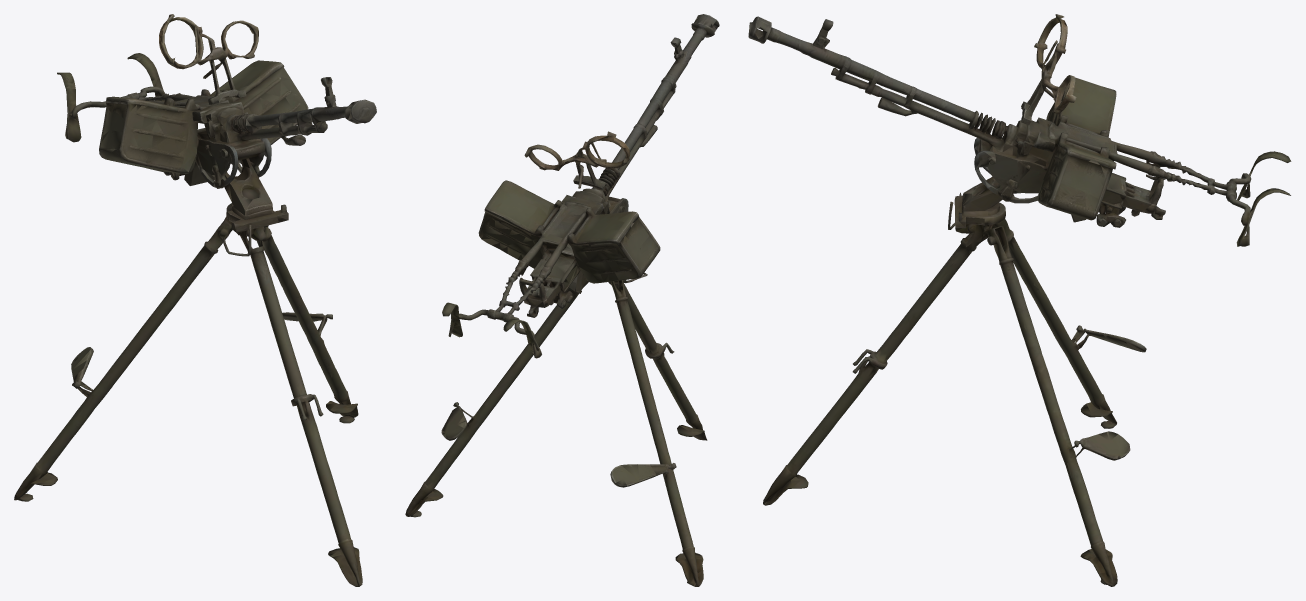
Rendered from dshk-12-7mm.glb.
3 views of the same model, side by side, from view 1: azimuth 30°, elevation 25°; view 2: azimuth 150°, elevation 25°; view 3: azimuth 270°, elevation 25° (orthographic). The views are drawn at different scales.
Visible parts, largest first — view 1: tripo_node_e1dae46c; view 2: tripo_node_e1dae46c; view 3: tripo_node_e1dae46c.
Boxes of the visible parts, bbox=[...] form: tripo_node_e1dae46c: bbox=[14, 14, 376, 586]; tripo_node_e1dae46c: bbox=[405, 14, 719, 586]; tripo_node_e1dae46c: bbox=[748, 14, 1291, 586].
Bounding box in the file's own units: 1.15 × 1.58 × 1.6.
1 material, 1 textured.
